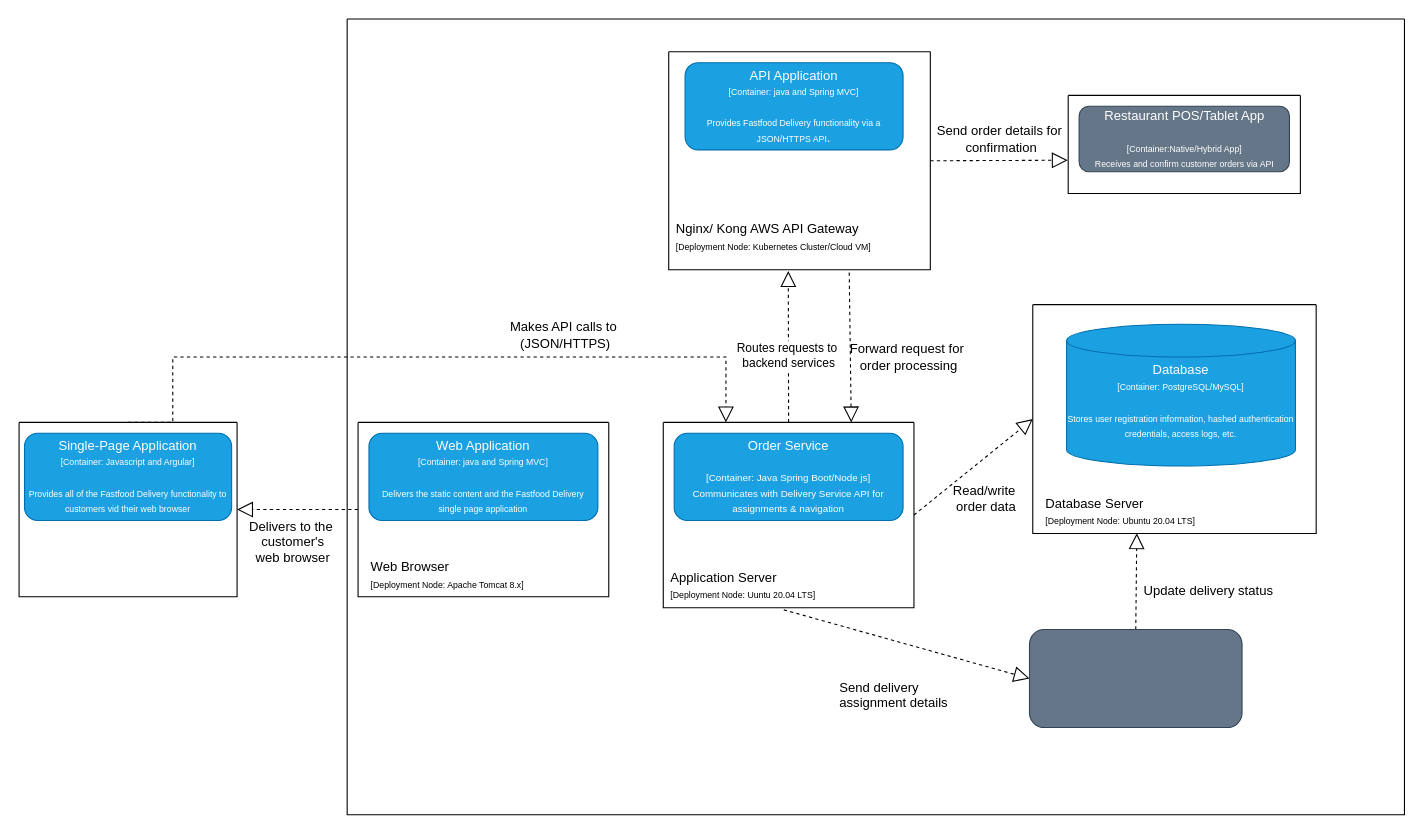
Image size: 1424x834. Some labels were removed from this diagram. The shapes that lost their labels are listed below. From the top down, each one's centre as x and y in pixels, then its label:
At pixel 127 509: "Web Browser [Deployment Node: Chrome, Firefox or Safari]".
At pixel 1135 678: "Driver App Delivery Driver's Smartphone".
